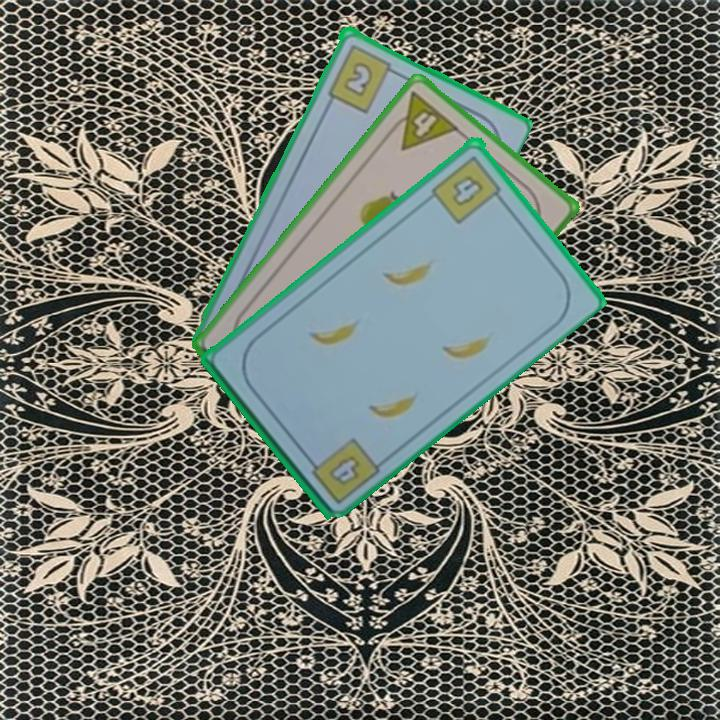2b: (324, 40, 401, 115)
4b: (301, 433, 383, 507), (428, 151, 508, 226)
4p: (381, 87, 462, 153)
